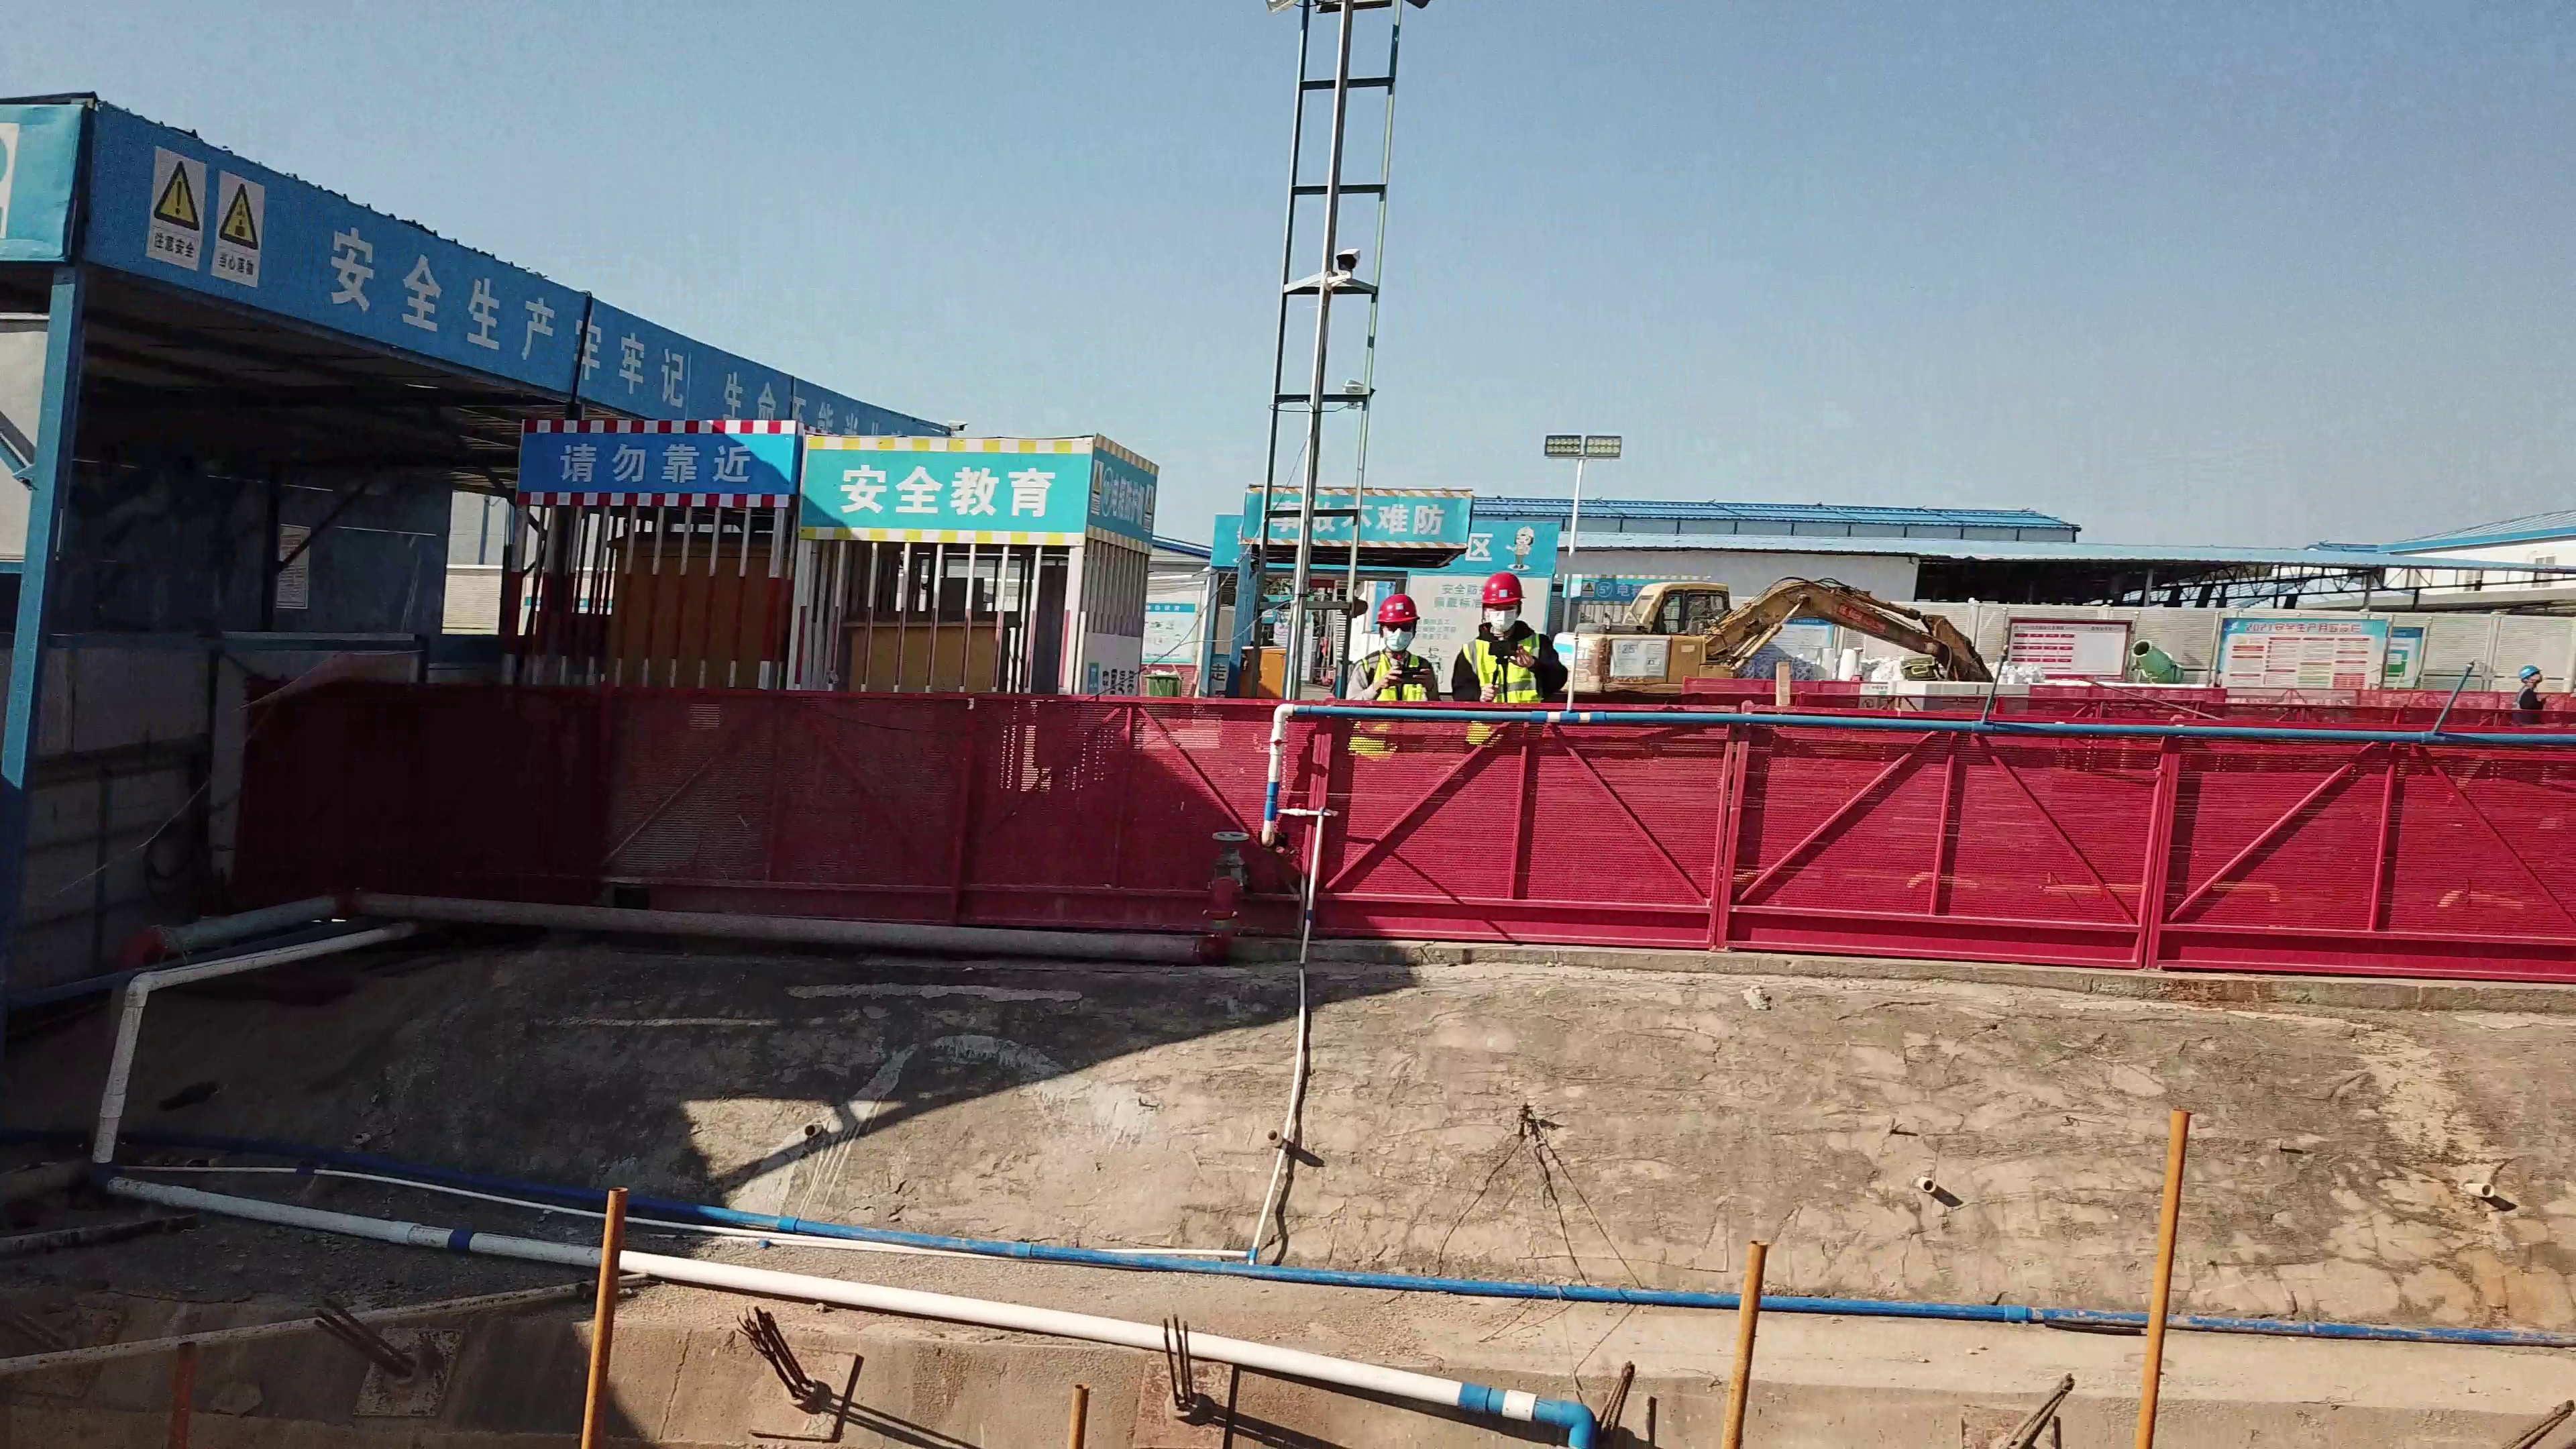fence: (282, 687, 1727, 967), (1715, 713, 2576, 989)
helmet: (1479, 572, 1531, 604), (1372, 594, 1425, 622)
person: (1443, 566, 1577, 702), (1354, 584, 1448, 698)
slogan: (307, 203, 955, 413), (819, 432, 1085, 531), (551, 421, 761, 488)
vest: (1452, 630, 1567, 699), (1352, 651, 1441, 701)
